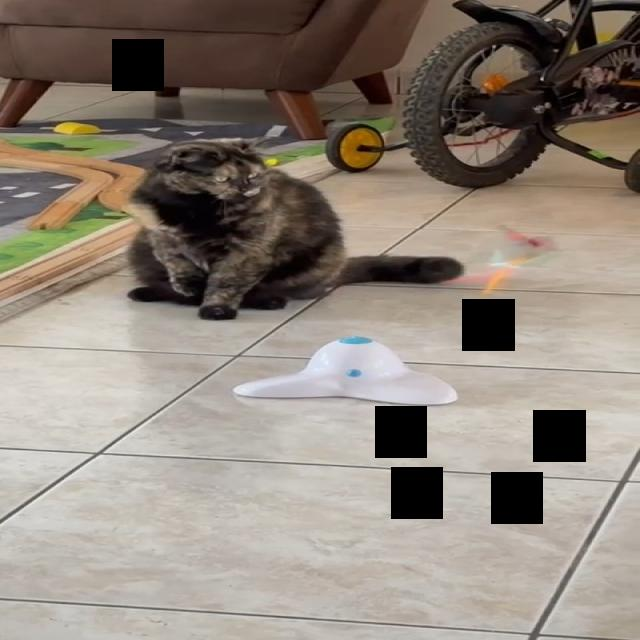authorized: (123, 135, 464, 321)
